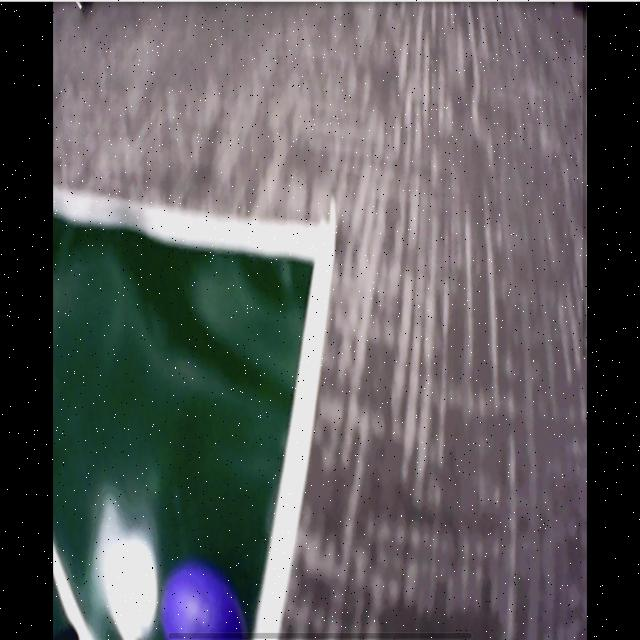ball: (161, 565, 249, 640)
